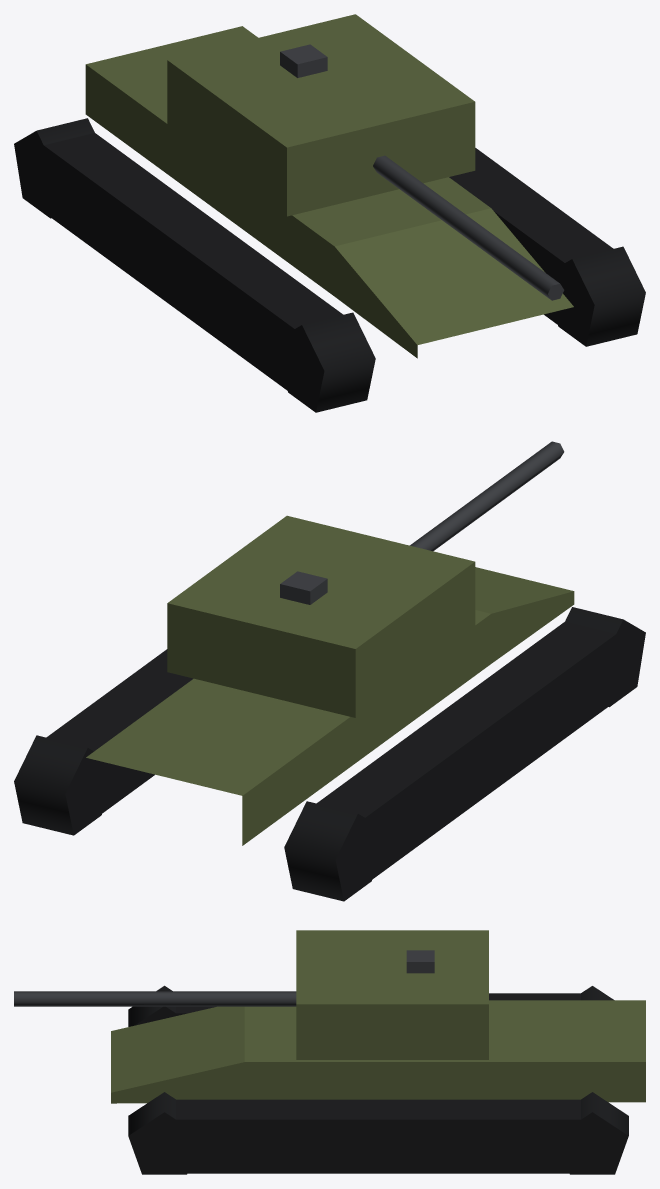
Rendered from veh_ground_tank_heavy_a08_lod1.glb.
3 views of the same model, one above another, from view 1: azimuth 30°, elevation 25°; view 2: azimuth 150°, elevation 25°; view 3: azimuth 270°, elevation 25° (orthographic). The views are drawn at different scales.
Parts seen in each view (by area): view 1: turret, body, track_r, track_l; view 2: turret, track_r, body, track_l; view 3: body, track_l, turret, track_r.
Boxes of the visible parts, x1,y1,x2,y2 form: turret: [167, 14, 564, 300]; body: [85, 26, 573, 358]; track_r: [14, 118, 375, 412]; track_l: [449, 148, 645, 346]; turret: [167, 441, 564, 717]; track_r: [284, 607, 645, 901]; body: [86, 567, 574, 845]; track_l: [14, 649, 193, 835]; body: [111, 950, 645, 1103]; track_l: [128, 1092, 628, 1174]; turret: [14, 930, 488, 1059]; track_r: [128, 985, 614, 1026].
Size of the model in its own units: 4.27 by 2.45 by 9.02.
